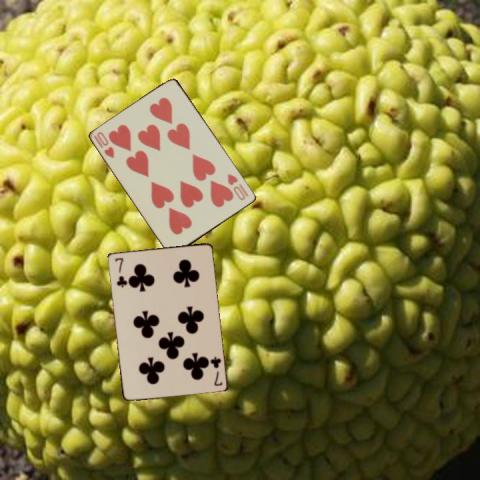10h: (225, 171, 250, 202), (91, 129, 116, 160)
7c: (207, 354, 223, 388), (112, 255, 127, 288)
